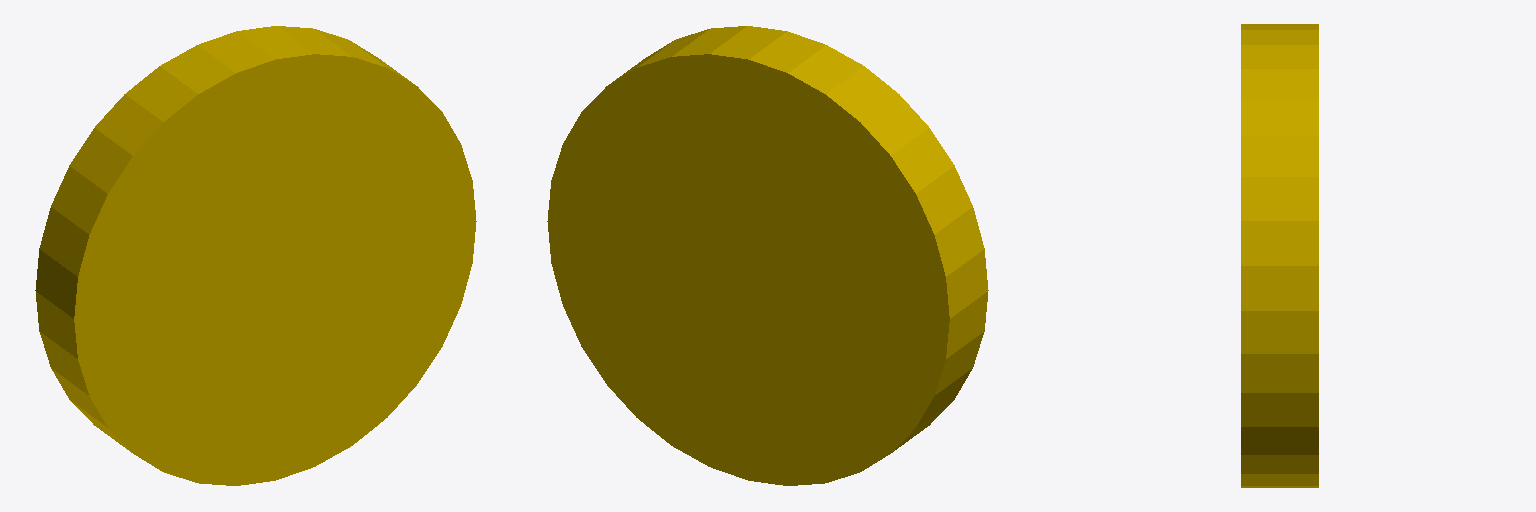
Rendered from Coin.obj.
3 views of the same model, side by side, from view 1: azimuth 30°, elevation 25°; view 2: azimuth 150°, elevation 25°; view 3: azimuth 270°, elevation 25° (orthographic).
Size of the model in its own units: 0.3 by 0.3 by 0.05.